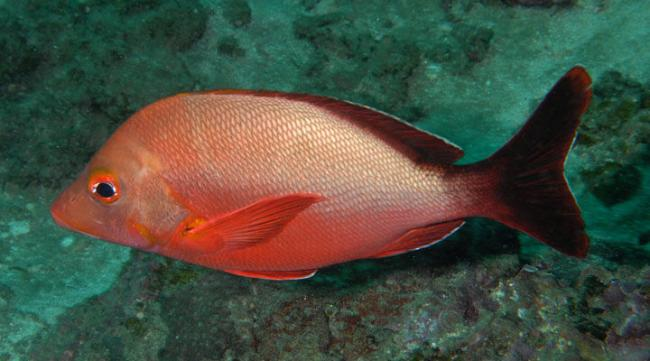fish: (49, 64, 594, 280)
